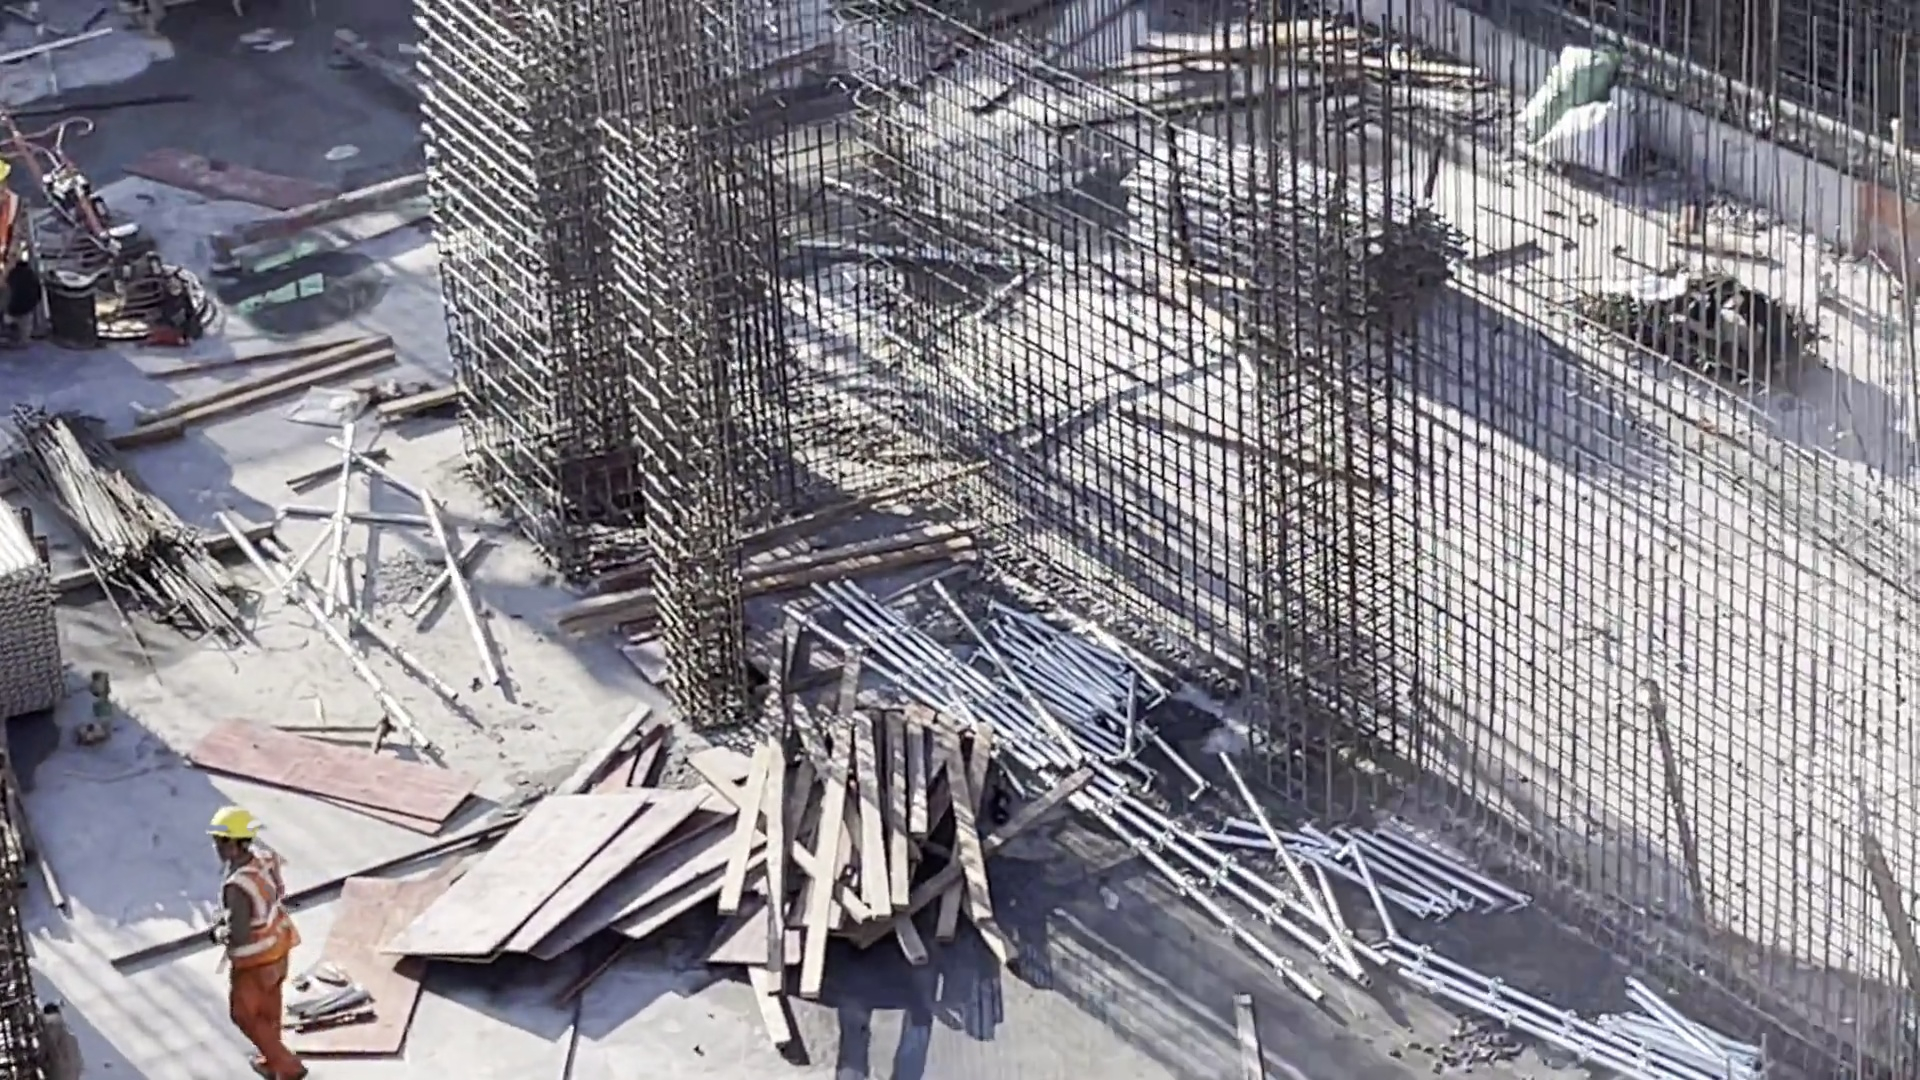helmet: (201, 807, 244, 841)
person: (218, 801, 309, 1080), (1, 155, 29, 315)
rebar: (13, 401, 258, 680)
scaffold: (1154, 144, 1438, 312), (1, 544, 74, 716)
vest: (239, 847, 286, 954)
wood: (719, 667, 1019, 941), (756, 662, 1011, 692)
